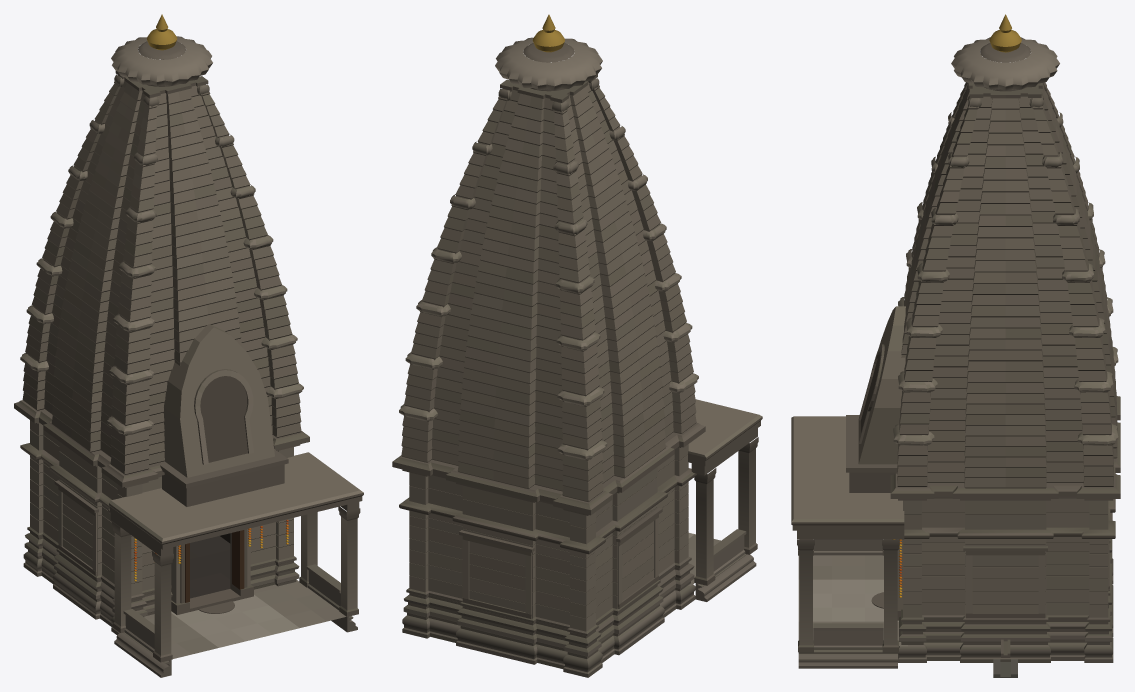
Rendered from shrine.glb.
3 views of the same model, side by side, from view 1: azimuth 30°, elevation 25°; view 2: azimuth 150°, elevation 25°; view 3: azimuth 270°, elevation 25° (orthographic). The views are drawn at different scales.
Visible parts, largest first — view 1: shrine; view 2: shrine; view 3: shrine.
Part boxes in pixels (left/top/right/bottom): shrine: left=14, top=14, right=363, bottom=677; shrine: left=392, top=14, right=762, bottom=677; shrine: left=791, top=14, right=1120, bottom=677.
Size of the model in its own units: 6.44 by 16.1 by 7.96.
